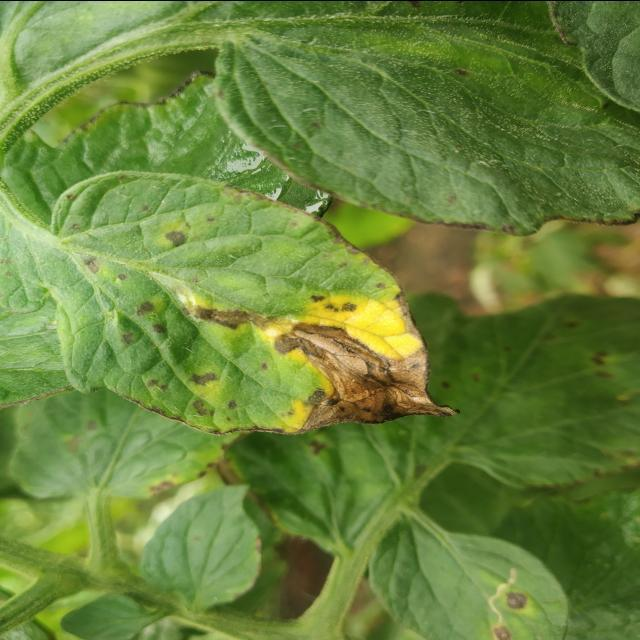Tomato mosaic virus leaf: (46, 162, 467, 442)
